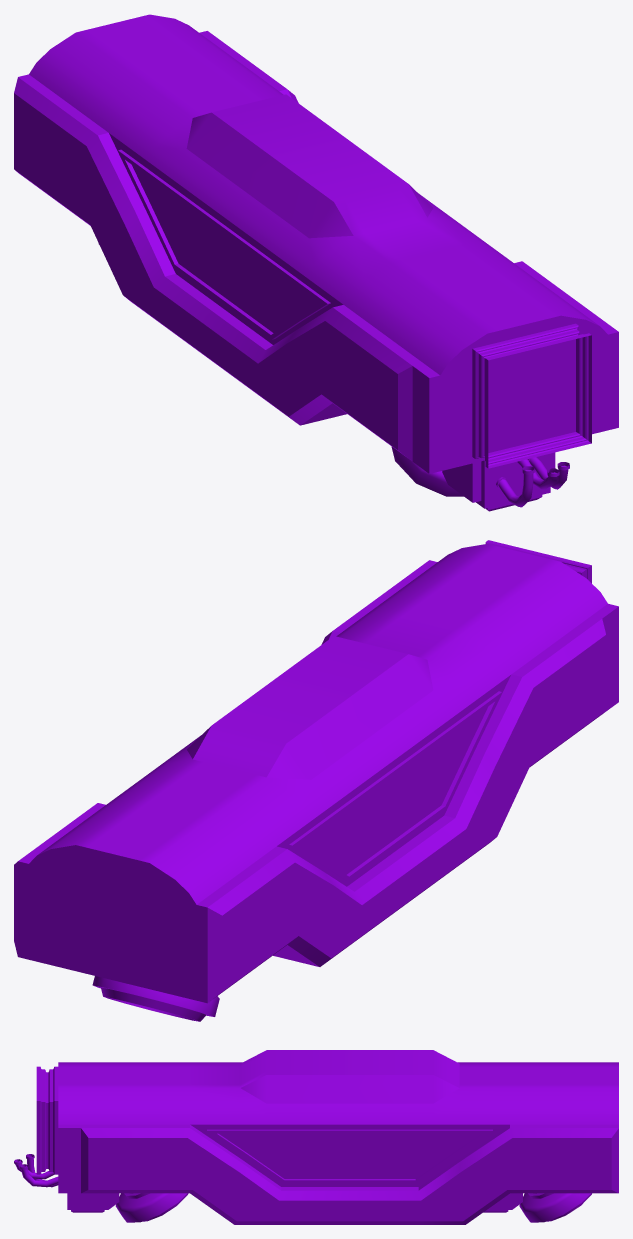
The model's file is SM_Obstacle_Train_Cabin.fbx.
The picture shows the model from 3 angles, top to bottom: view 1: azimuth 30°, elevation 25°; view 2: azimuth 150°, elevation 25°; view 3: azimuth 270°, elevation 25°; orthographic projection. The views are drawn at different scales.
Parts seen in each view (by area): view 1: SM_Train_Top_Base_low, SM_Train_Bottom_Base_low, SM_Cabin_Connector_low, SM_Thruster_Hold_01_low, SM_Wires_low, SM_Thruster_01_low; view 2: SM_Train_Top_Base_low, SM_Train_Bottom_Base_low, SM_Thruster_02_low, SM_Cabin_Connector_low; view 3: SM_Train_Top_Base_low, SM_Train_Bottom_Base_low, SM_Cabin_Connector_low, SM_Thruster_01_low, SM_Thruster_02_low, SM_Thruster_Hold_01_low, SM_Wires_low, SM_Thruster_Hold_02_low.
Part boxes in pixels (x1,y1,x2,y2): SM_Train_Top_Base_low: (29,14,607,375); SM_Train_Bottom_Base_low: (14,31,618,473); SM_Cabin_Connector_low: (472,323,591,468); SM_Thruster_Hold_01_low: (442,452,555,511); SM_Wires_low: (496,457,569,507); SM_Thruster_01_low: (391,446,463,496); SM_Train_Top_Base_low: (29,544,607,904); SM_Train_Bottom_Base_low: (14,560,618,1003); SM_Thruster_02_low: (92,976,219,1021); SM_Cabin_Connector_low: (485,540,591,583); SM_Train_Top_Base_low: (58,1050,618,1186); SM_Train_Bottom_Base_low: (58,1124,618,1224); SM_Cabin_Connector_low: (36,1066,58,1174); SM_Thruster_01_low: (115,1193,188,1222); SM_Thruster_02_low: (519,1193,591,1222); SM_Thruster_Hold_01_low: (67,1193,119,1212); SM_Wires_low: (14,1154,58,1187); SM_Thruster_Hold_02_low: (483,1193,522,1212).
Size of the model in its own units: 3.15 by 3.27 by 11.63.
